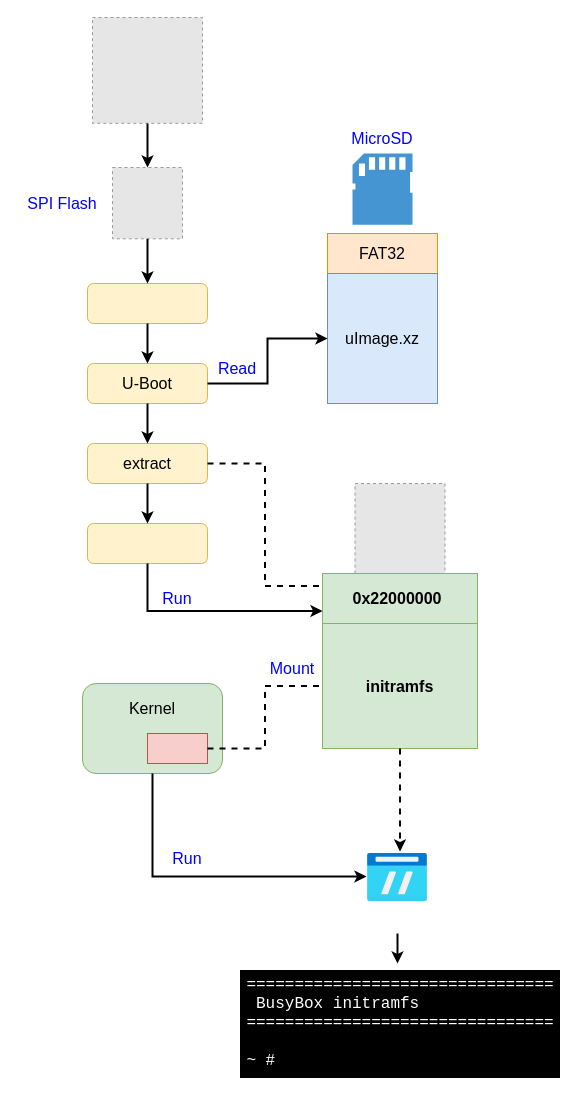
Some shapes in this 576 by 1095 pixel diagram are drawn without their labels. Grey dashed boxes stand in for pictures. Here are the shapes that lost their labels. From the top down, the box of each, then its label:
(86, 282, 208, 324): Loader
(86, 522, 208, 564): bootm
(146, 732, 208, 764): ramfs
(367, 853, 427, 901): init
